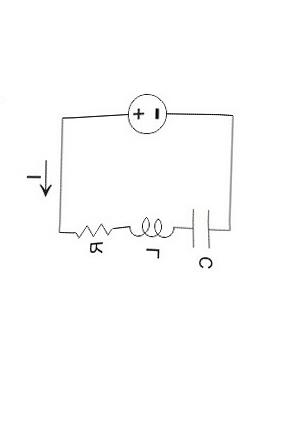Battery: (116, 83, 181, 144)
